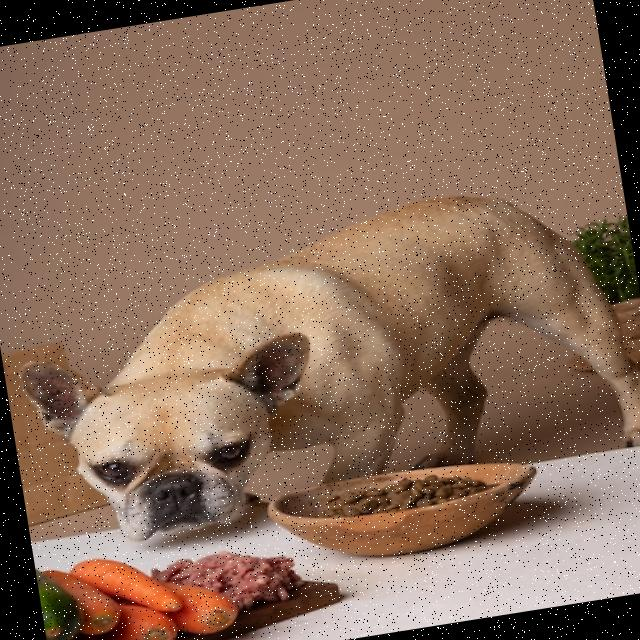Dog: (2, 167, 640, 554)
